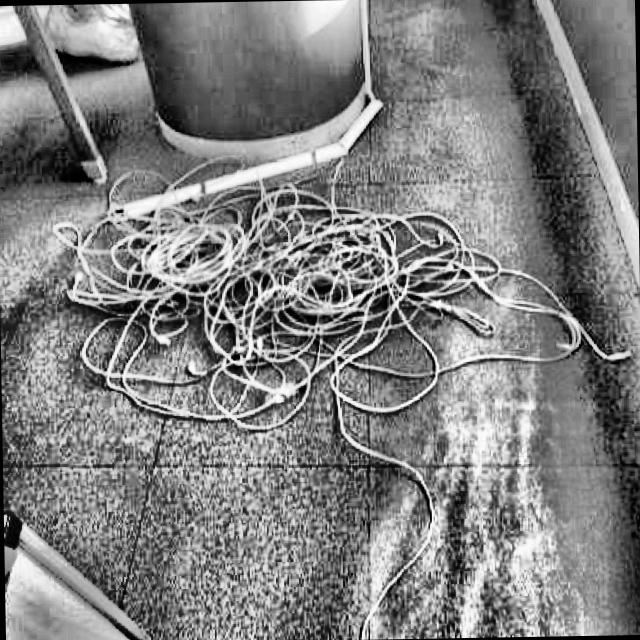Cable: (47, 150, 633, 432)
